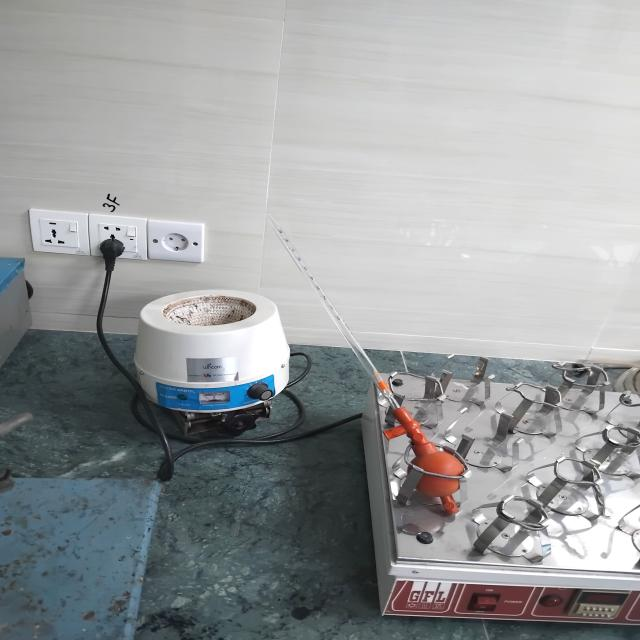Volumetric_Pipet: (232, 197, 469, 520)
